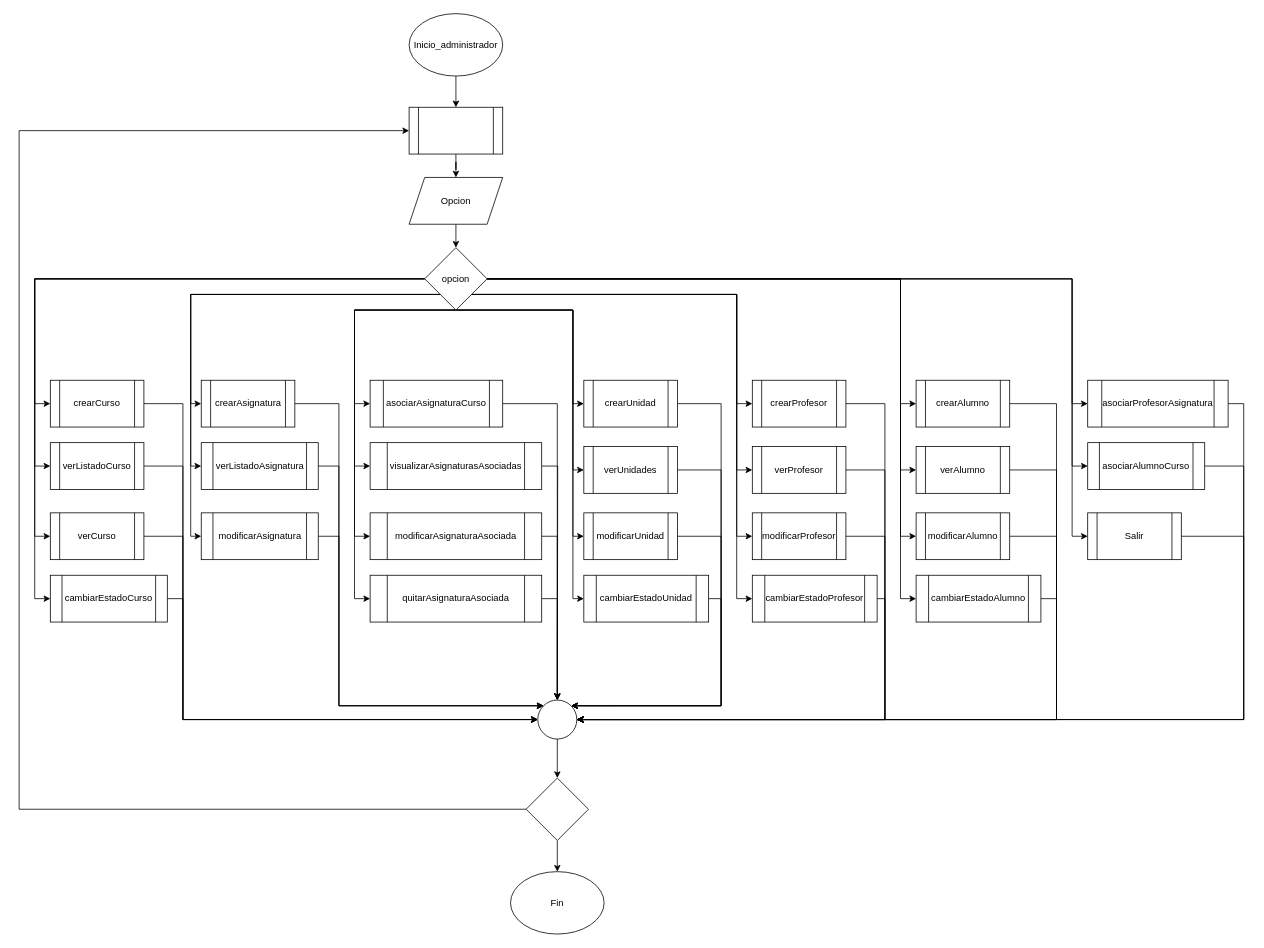
Some shapes in this 1264 by 948 pixel diagram are drawn without their labels. Here are the shapes that lost their labels. From the top down, the centre of each, then its label:
At [455,130]: "menu".
At [557,808]: "opcion!=salir".
